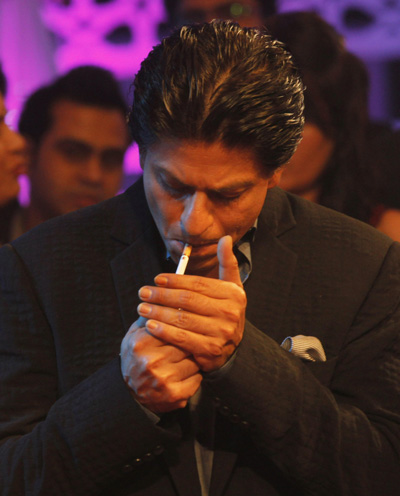cigarette: (163, 233, 191, 285)
